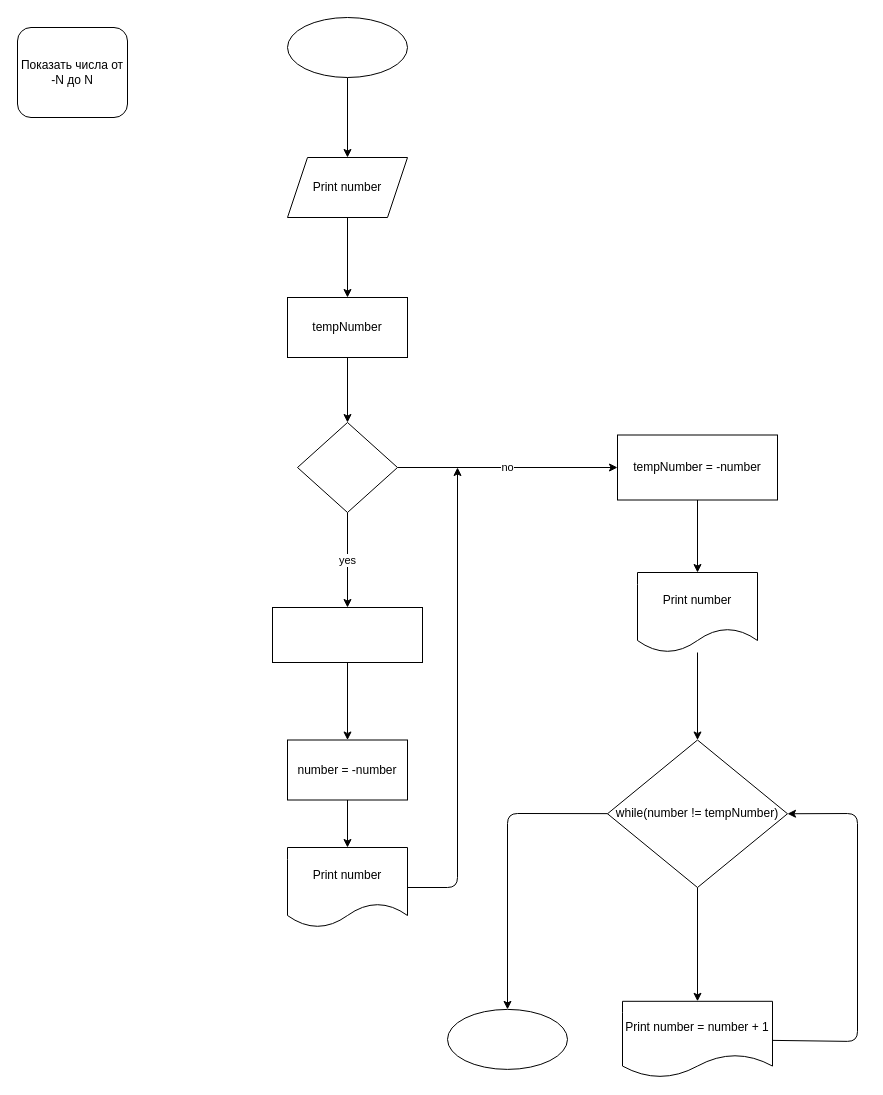
The diagram is 883 pixels wide and 1095 high, and some of its shapes have lost their labels. Here are the shapes that lost their labels. From the top down, the centre of each, then its label:
At (x=347, y=47): "Start".
At (x=347, y=467): "if(number > 0)".
At (x=347, y=634): "tempNumber = +number".
At (x=507, y=1038): "End".
